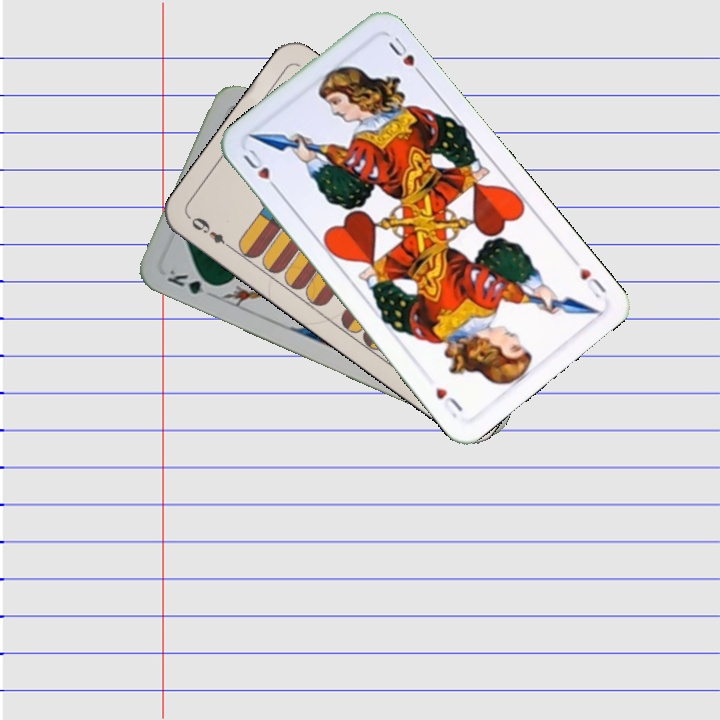E9: (185, 212, 236, 253)
GK: (163, 265, 220, 297)
HU: (239, 144, 283, 195), (575, 263, 609, 301)
